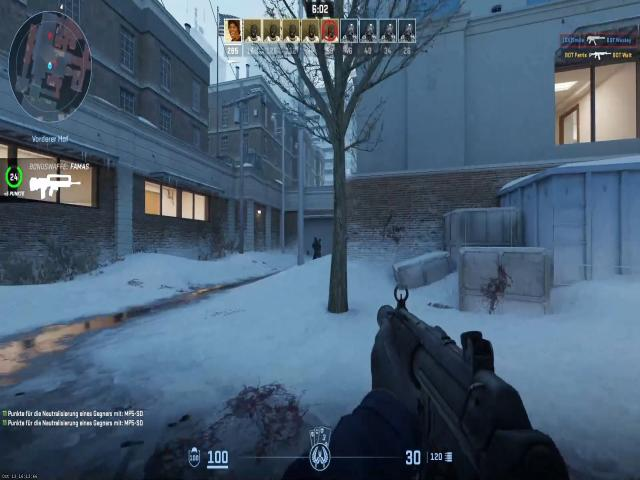CT: (312, 236, 322, 254)
CT-Head: (313, 236, 319, 245)
